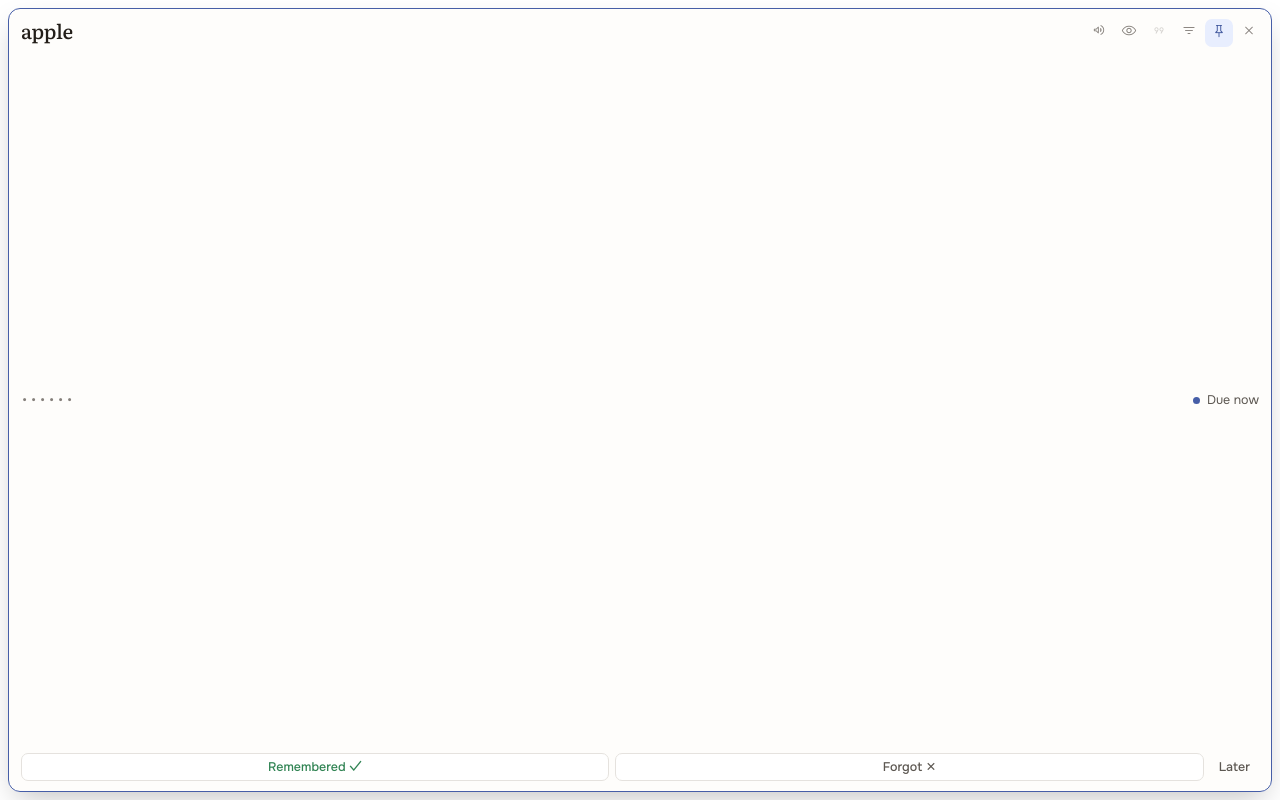
StickerApp › keeps the translation hidden until the eye button reveals it
Expected: the text "apple" is shown, [21, 19, 73, 45]
Expected: the text "яблоко" is not shown
Click the button named "Toggle translation visibility" at (1129, 33), box [1115, 19, 1143, 47]
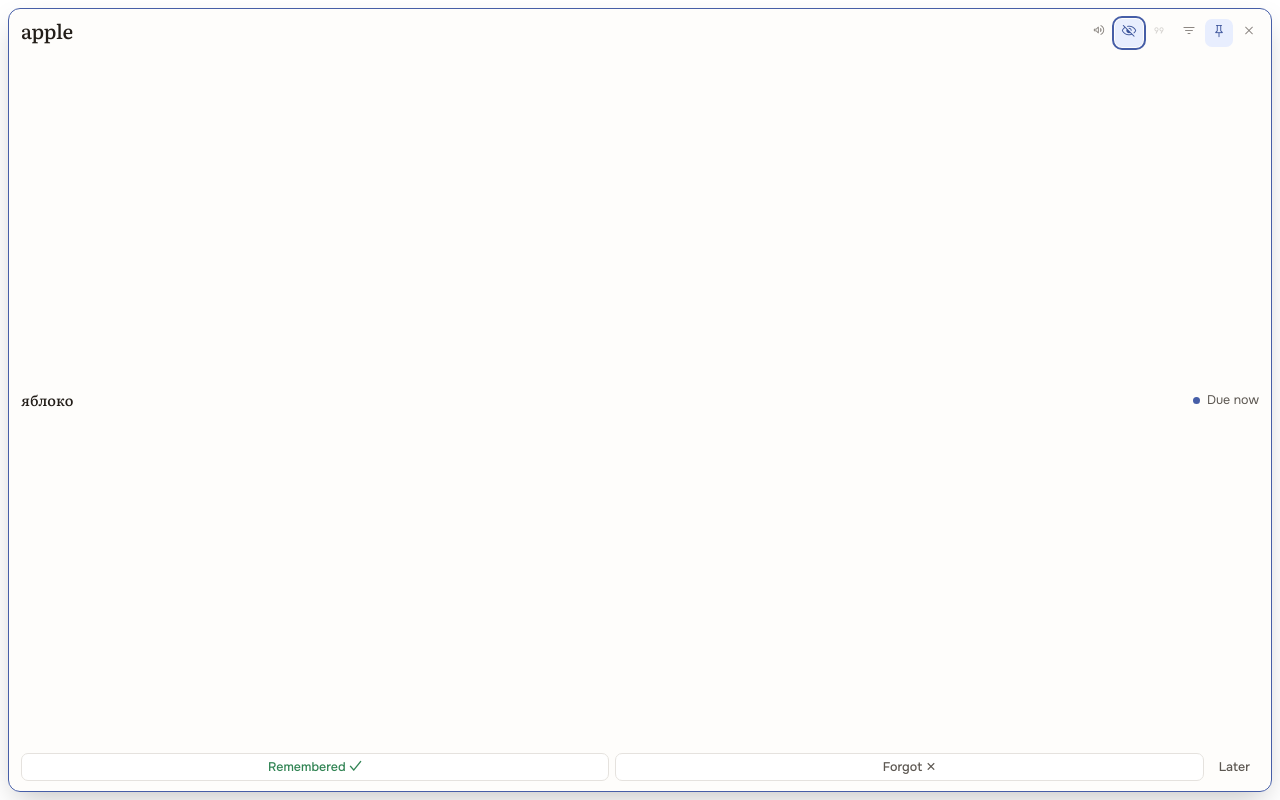
Result: the text "яблоко" is shown at [21, 389, 73, 410]
Click the button named "Toggle translation visibility" at (1129, 33), box [1115, 19, 1143, 47]
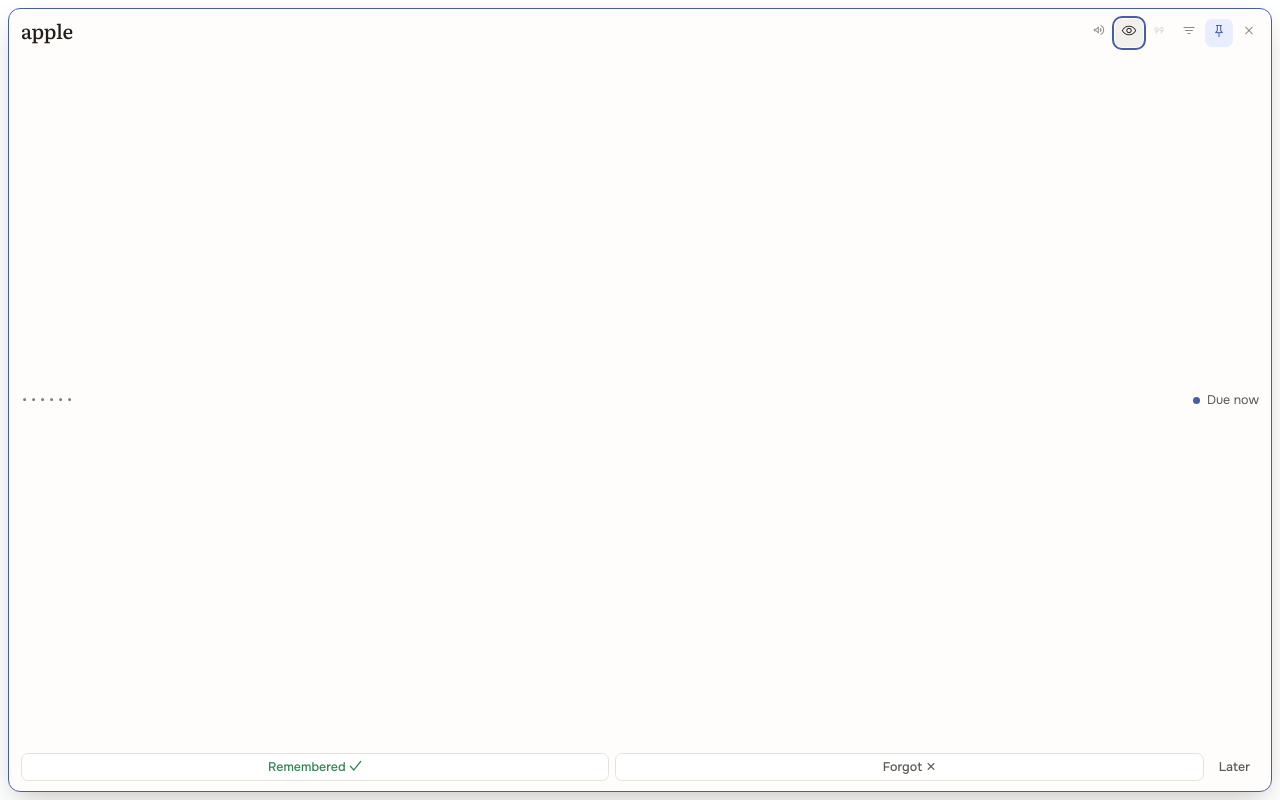
Result: the text "яблоко" is gone
